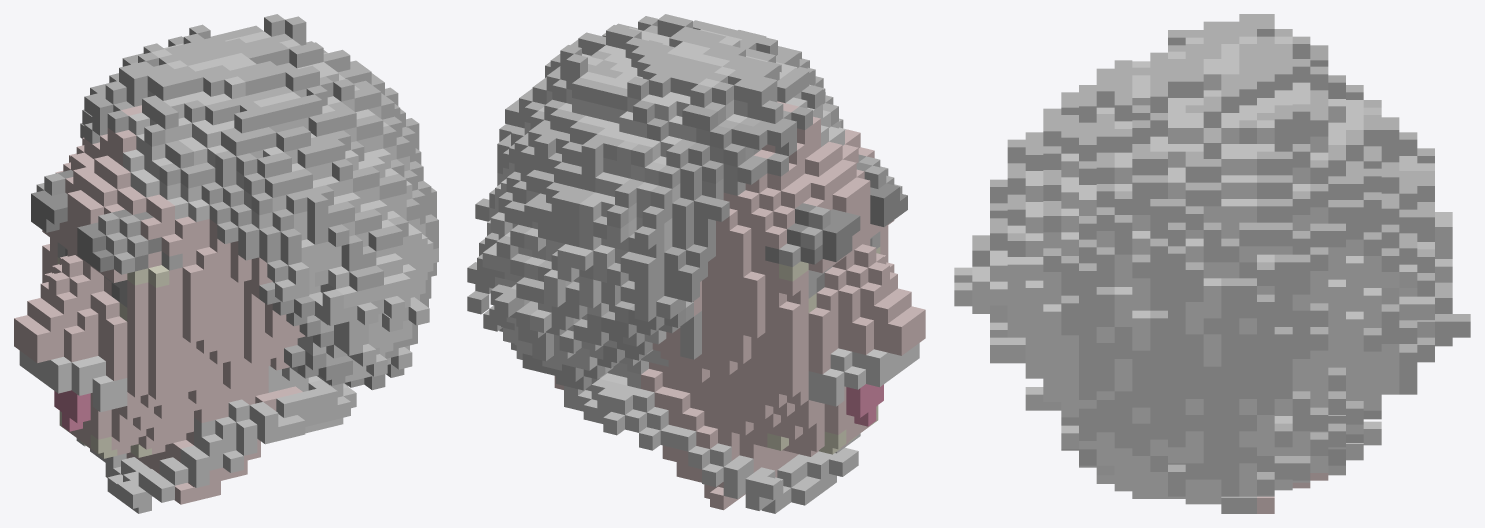
3 renders of one model, left to right at view 1: azimuth 30°, elevation 25°; view 2: azimuth 150°, elevation 25°; view 3: azimuth 270°, elevation 25°, orthographic. The views are drawn at different scales.
Bounding box in the file's own units: 1.4 × 1.45 × 1.45.
